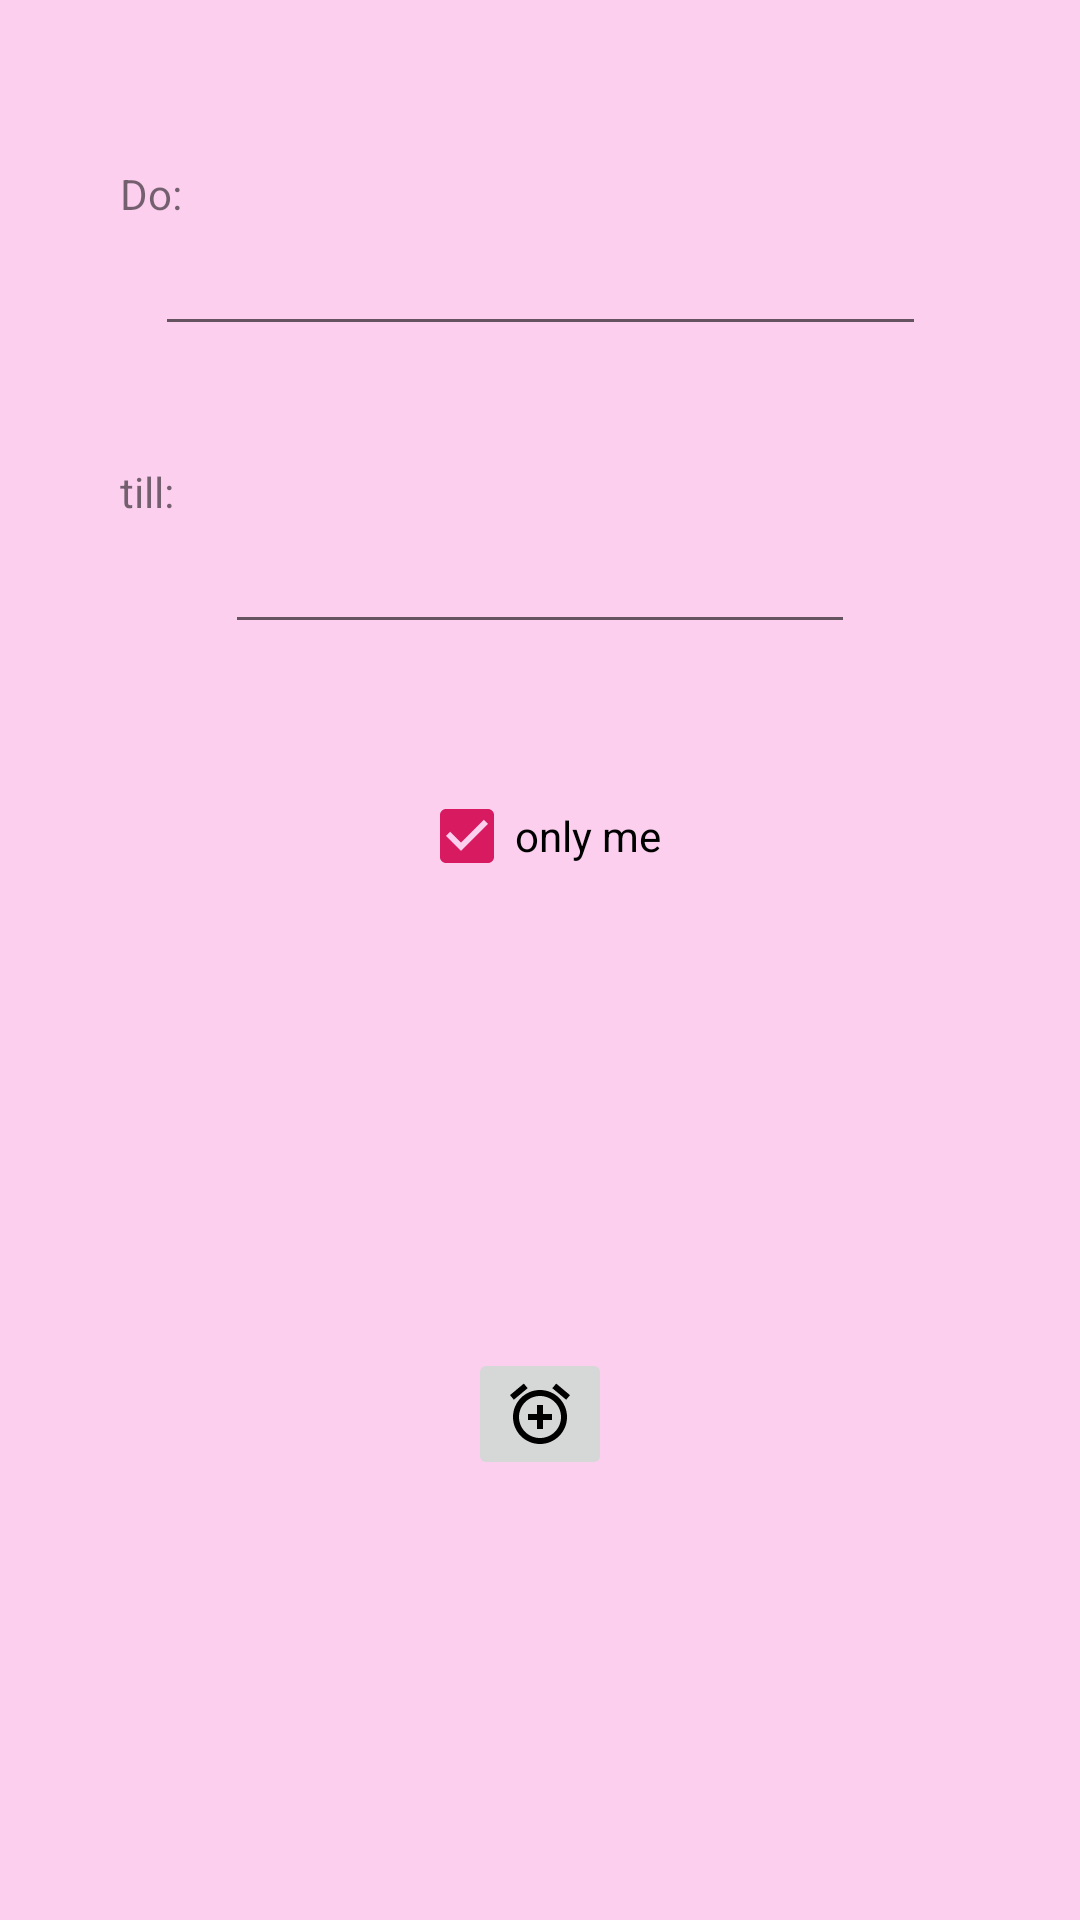

Icons on this 1080px×1920px Android screen, each with its box as box(x1, y1, x2, y2):
alarm add: box(480, 1366, 600, 1462)
